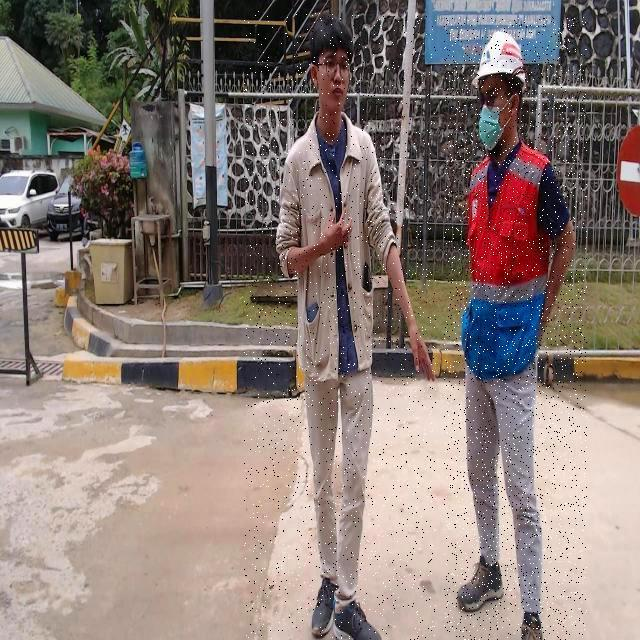10: (244, 11, 436, 640), (444, 17, 587, 640)
11: (461, 144, 549, 378)
2: (471, 29, 530, 148)
7: (318, 204, 358, 258), (407, 333, 438, 390)
8: (312, 21, 364, 114)
9: (296, 127, 374, 356)
helmet_white: (457, 557, 505, 616), (332, 596, 382, 640), (307, 580, 336, 640), (520, 611, 545, 640)
